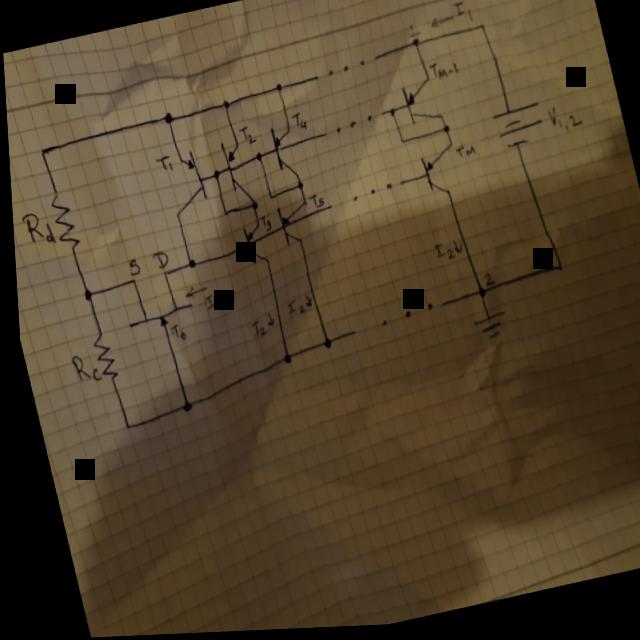ground: (465, 311, 505, 346)
junction: (76, 285, 90, 302), (158, 110, 171, 126), (174, 399, 187, 414), (470, 288, 482, 302), (275, 353, 287, 366), (316, 338, 327, 351), (34, 145, 45, 158), (181, 258, 192, 270), (383, 108, 394, 120), (270, 83, 281, 94), (407, 39, 418, 50), (438, 126, 449, 137), (245, 200, 256, 211), (250, 152, 260, 164), (550, 265, 560, 277), (218, 100, 228, 111), (208, 170, 218, 181), (475, 24, 485, 35), (292, 181, 300, 193), (395, 139, 403, 148), (263, 193, 271, 202), (117, 421, 124, 431), (218, 209, 225, 218)
resistor: (44, 189, 77, 255), (83, 328, 115, 384)
source: (481, 100, 548, 159)
text: (14, 205, 53, 249), (539, 101, 582, 140), (63, 349, 97, 388), (425, 59, 458, 85), (426, 241, 453, 269), (278, 297, 304, 323), (448, 0, 473, 27), (198, 291, 222, 314), (163, 320, 184, 345), (287, 112, 307, 135), (146, 249, 166, 272), (300, 191, 321, 212), (151, 153, 171, 175), (245, 319, 264, 342), (236, 124, 254, 148), (451, 146, 474, 164), (121, 256, 139, 278), (254, 213, 271, 236), (402, 24, 421, 43), (477, 273, 491, 290)
transistor: (110, 264, 191, 334), (159, 148, 211, 216), (409, 142, 461, 204), (210, 134, 252, 202), (392, 76, 442, 132), (269, 197, 312, 249), (261, 123, 298, 182), (234, 220, 266, 270)
